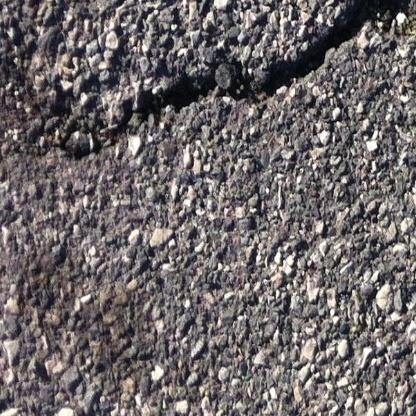Cracks: (116, 0, 416, 141)
